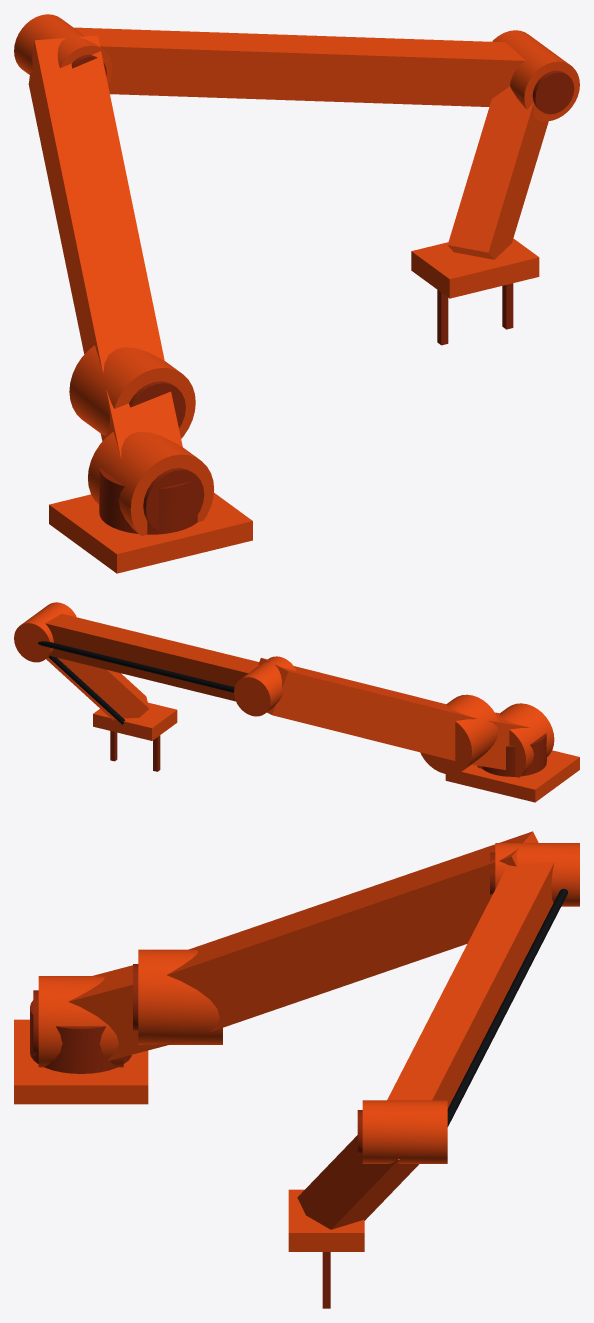
The model's file is sorting_pick_robot.dae.
3 views of the same model, one above another, from view 1: azimuth 30°, elevation 25°; view 2: azimuth 150°, elevation 25°; view 3: azimuth 270°, elevation 25° (orthographic). The views are drawn at different scales.
Parts seen in each view (by area): view 1: sorting_pick_robot; view 2: sorting_pick_robot; view 3: sorting_pick_robot.
Boxes of the visible parts, x1=… form: sorting_pick_robot: x1=14, y1=14, x2=579, y2=573; sorting_pick_robot: x1=14, y1=602, x2=579, y2=802; sorting_pick_robot: x1=14, y1=831, x2=579, y2=1308.
Bounding box in the file's own units: 4.13 × 3.2 × 1.86.
